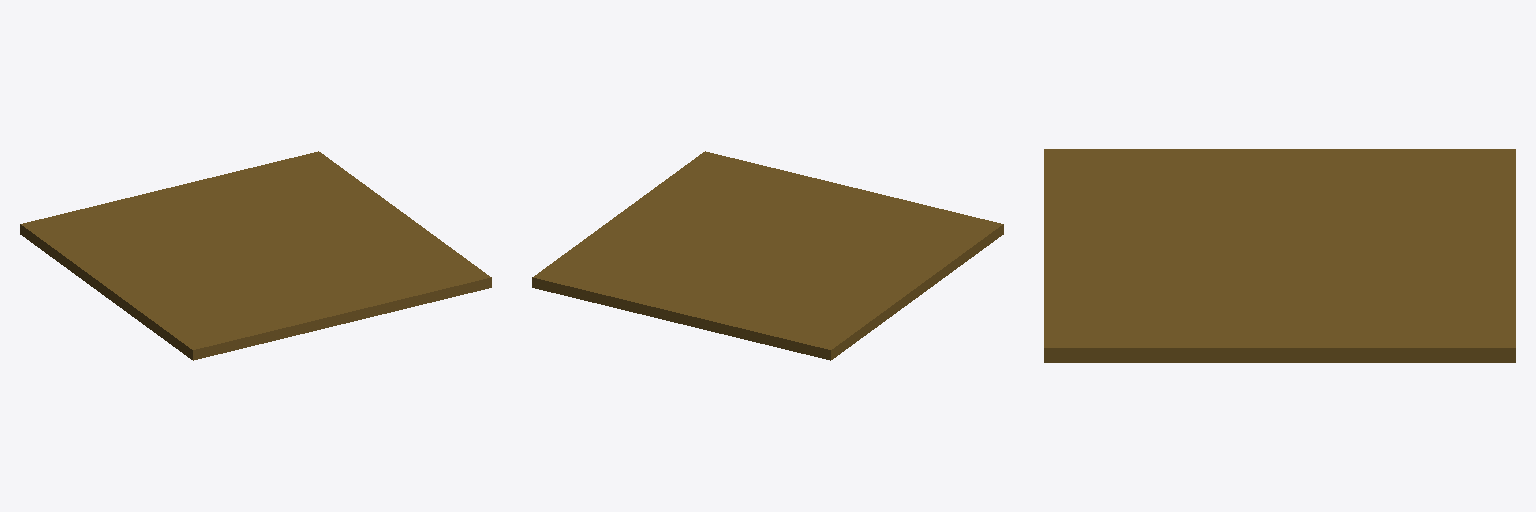
URDF robot description (plane):
<?xml version="0.0" ?>
<robot name="plane">
  <link name="planeLink">
    <contact>
      <lateral_friction value="1"/>
    </contact>
    <inertial>
      <origin rpy="0 0 0" xyz="0 0 0"/>
       <mass value=".0"/>
       <inertia ixx="0" ixy="0" ixz="0" iyy="0" iyz="0" izz="0"/>
    </inertial>
    <visual>
      <origin rpy="0 0 0" xyz="0 0 -1"/>
      <geometry>
	      <!-- <mesh filename="plane.obj" scale="1 1 1"/> -->
        <box size="30 30 1"/>
      </geometry>
       <material name="brown">
        <color rgba="0.5 .4 .2 1"/>
      </material>
    </visual>
    <collision>
      <origin rpy="0 0 0" xyz="0 0 -1"/>
      <geometry>
	      <box size="30 30 1"/>
      </geometry>
    </collision>
  </link>
</robot>

--- What the picture shows (computed from the rendered views, not written in the file) ---
3 views of the same robot in one strip: view 1: azimuth 30°, elevation 25°; view 2: azimuth 150°, elevation 25°; view 3: azimuth 270°, elevation 25° (orthographic).
Robot: plane — 1 links, 0 joints (none); root link planeLink; default pose: every joint at zero.
Visible links, largest first — view 1: planeLink; view 2: planeLink; view 3: planeLink.
Boxes of the visible links, left/top/right/bottom form: planeLink: left=20, top=151, right=491, bottom=360; planeLink: left=532, top=151, right=1003, bottom=360; planeLink: left=1044, top=149, right=1515, bottom=362.
Bounding box of the posed robot: 30 × 30 × 1 m (x, y, z).
Geometry: primitives only (box / cylinder / sphere), no mesh files.